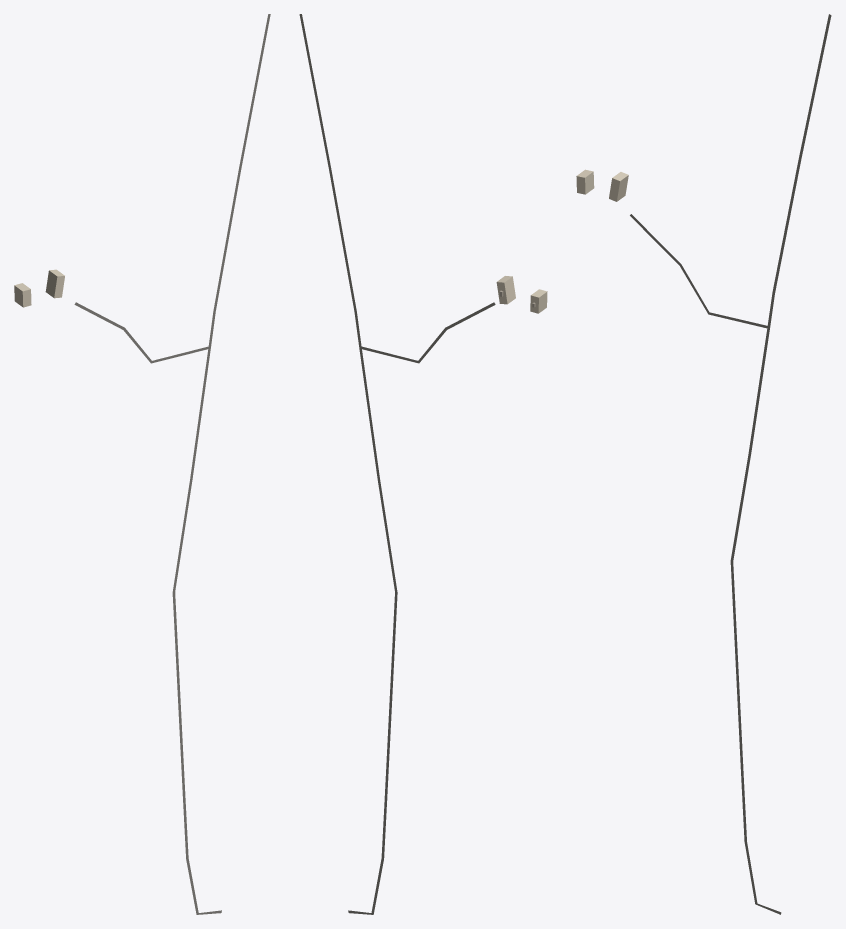
The model's file is historic-palestine-12_36_3536_3306.glb.
3 renders of one model, left to right at view 1: azimuth 30°, elevation 25°; view 2: azimuth 150°, elevation 25°; view 3: azimuth 330°, elevation 25°, orthographic. The views are drawn at different scales.
Parts seen in each view (by area): view 1: Road; view 2: Road; view 3: Road, Road .001.
Boxes of the visible parts, x1,y1,x2,y2 form: Road: (172,14,270,914); Road: (299,14,397,914); Road: (730,14,831,914); Road .001: (630,214,767,328).
Bounding box in the file's own units: 127 × 433 × 8.7.
